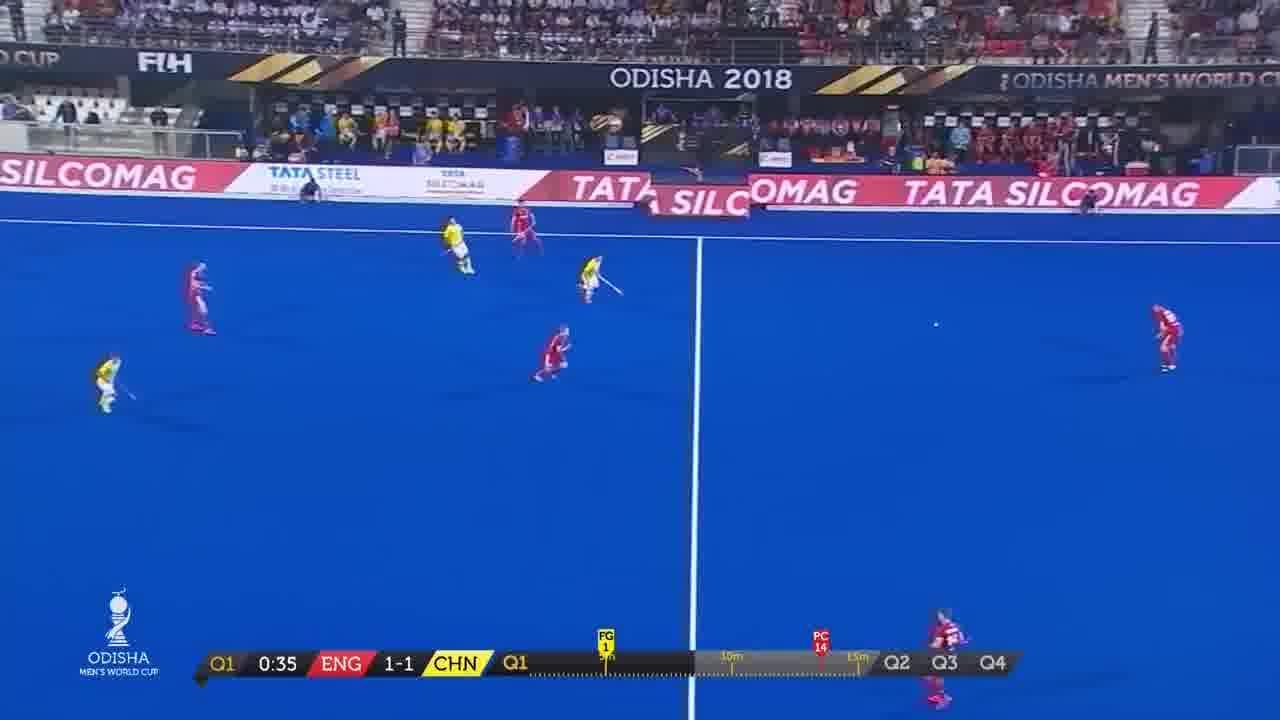ball: (931, 320, 945, 334)
